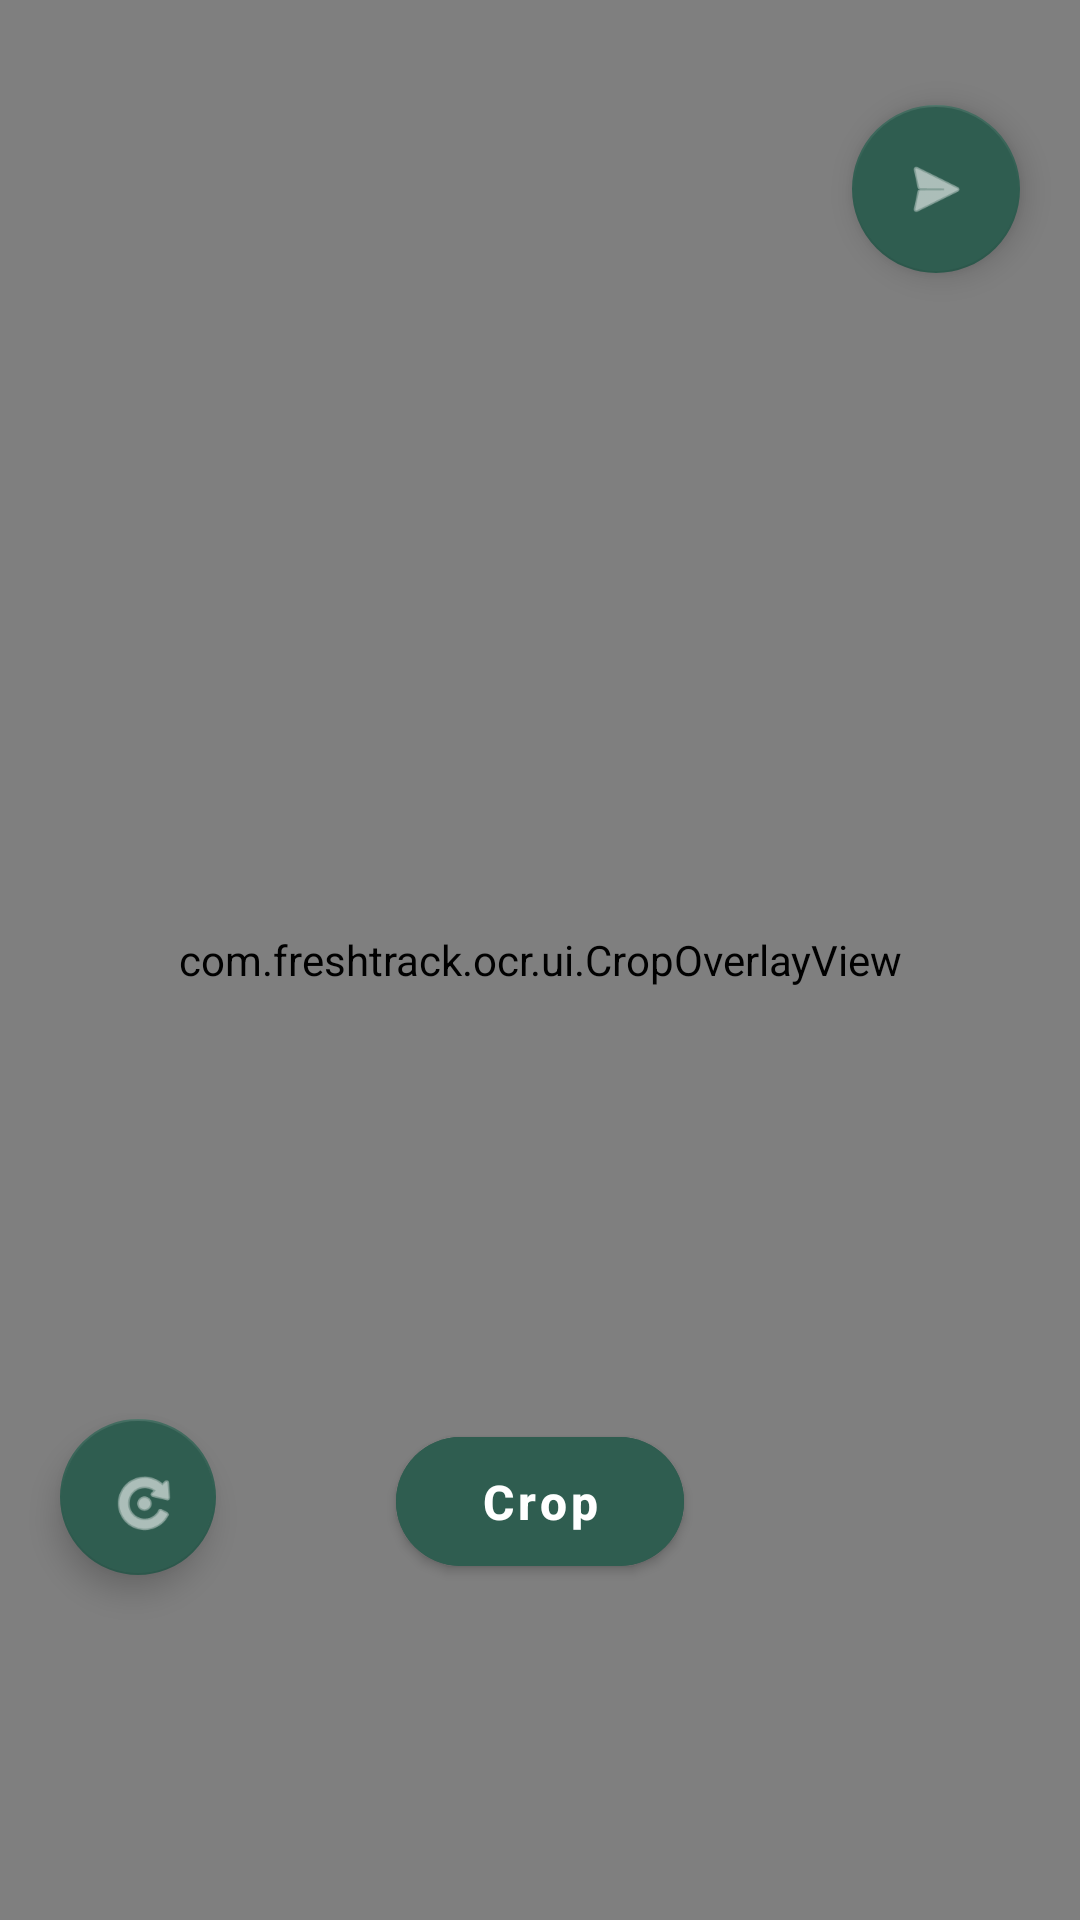

Where to tap for icons on this 1080×1920 app screen, as (x,y):
Rotate image: (138,1497)
